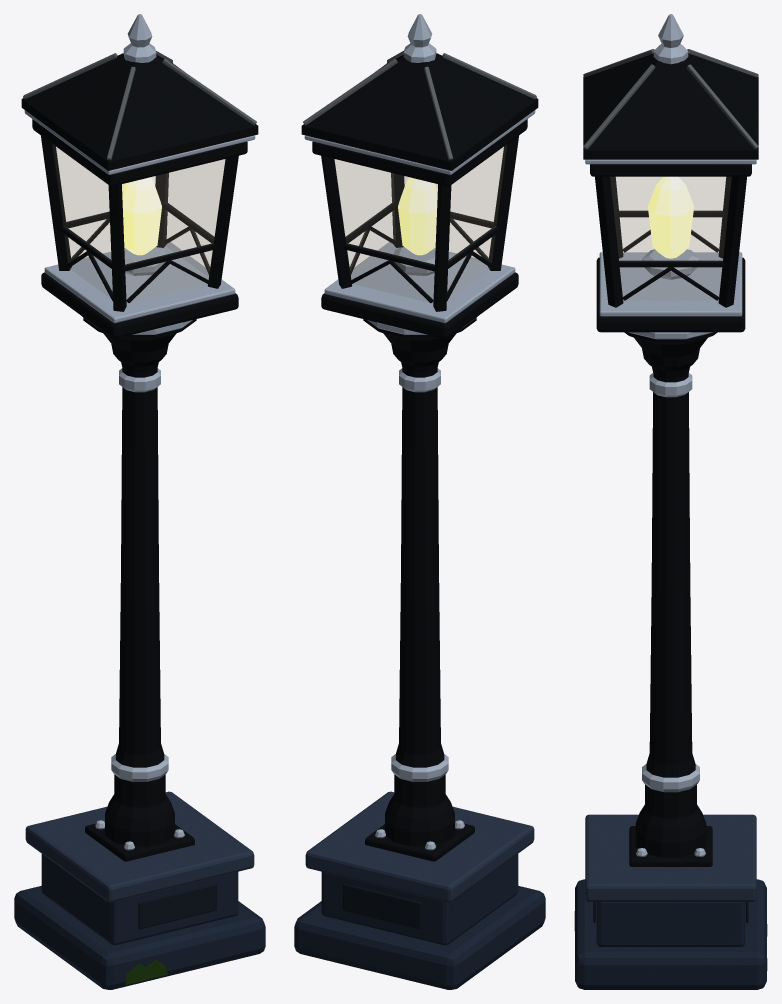
File: P1_Lanterne_Pied.glb
3 renders of one model, left to right at view 1: azimuth 30°, elevation 25°; view 2: azimuth 150°, elevation 25°; view 3: azimuth 270°, elevation 25°, orthographic.
Parts seen in each view (by area): view 1: P1_Lanterne_Pied_Structure, P1_Lanterne_Pied_Vitres, P1_Lanterne_Pied_Coeur, P1_Lanterne_Pied_Mousse; view 2: P1_Lanterne_Pied_Structure, P1_Lanterne_Pied_Vitres, P1_Lanterne_Pied_Coeur; view 3: P1_Lanterne_Pied_Structure, P1_Lanterne_Pied_Vitres, P1_Lanterne_Pied_Coeur.
Part boxes in pixels (x1,y1,x2,y2): P1_Lanterne_Pied_Structure: (14, 14, 265, 989); P1_Lanterne_Pied_Vitres: (53, 145, 225, 301); P1_Lanterne_Pied_Coeur: (122, 177, 161, 255); P1_Lanterne_Pied_Mousse: (125, 959, 167, 984); P1_Lanterne_Pied_Structure: (294, 14, 545, 989); P1_Lanterne_Pied_Vitres: (334, 145, 506, 301); P1_Lanterne_Pied_Coeur: (398, 177, 437, 255); P1_Lanterne_Pied_Structure: (575, 14, 766, 989); P1_Lanterne_Pied_Vitres: (611, 177, 730, 299); P1_Lanterne_Pied_Coeur: (648, 176, 693, 258).
Size of the model in its own units: 1.78 by 9.59 by 1.8.
3 materials, 1 textured.
